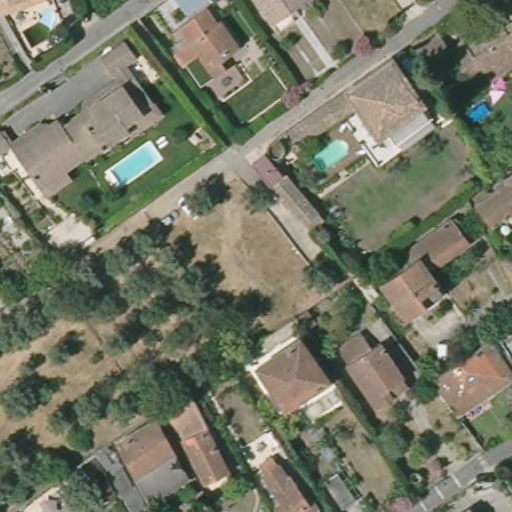pool: (105, 138, 164, 190), (307, 138, 352, 176), (21, 4, 59, 37)
